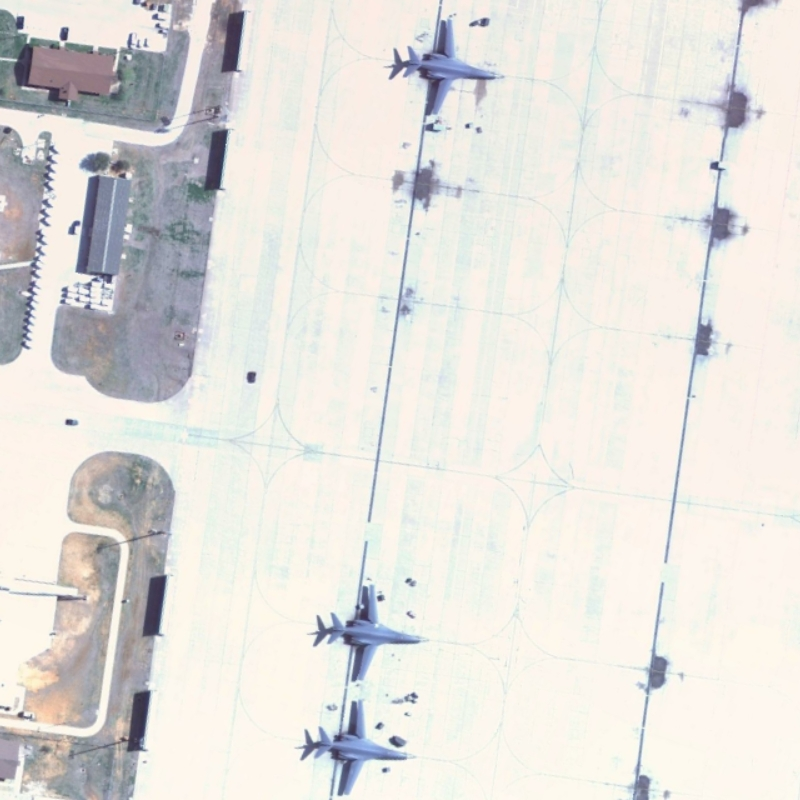A10: (382, 11, 511, 123), (315, 572, 437, 689), (294, 695, 412, 800)
